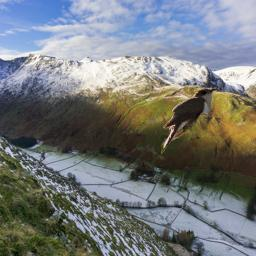Cuckoo: (161, 87, 219, 156)
